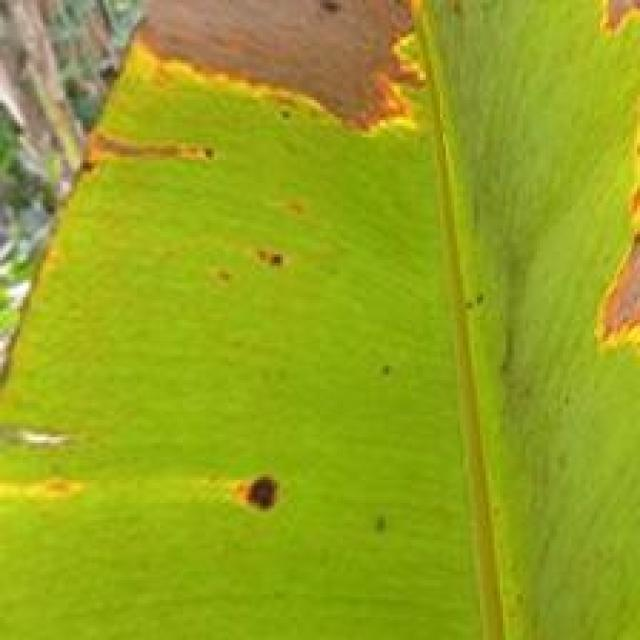Bacterial_spot: (128, 0, 454, 160), (92, 117, 246, 184), (590, 180, 640, 363), (208, 440, 302, 532), (237, 236, 305, 293), (587, 0, 640, 65)
